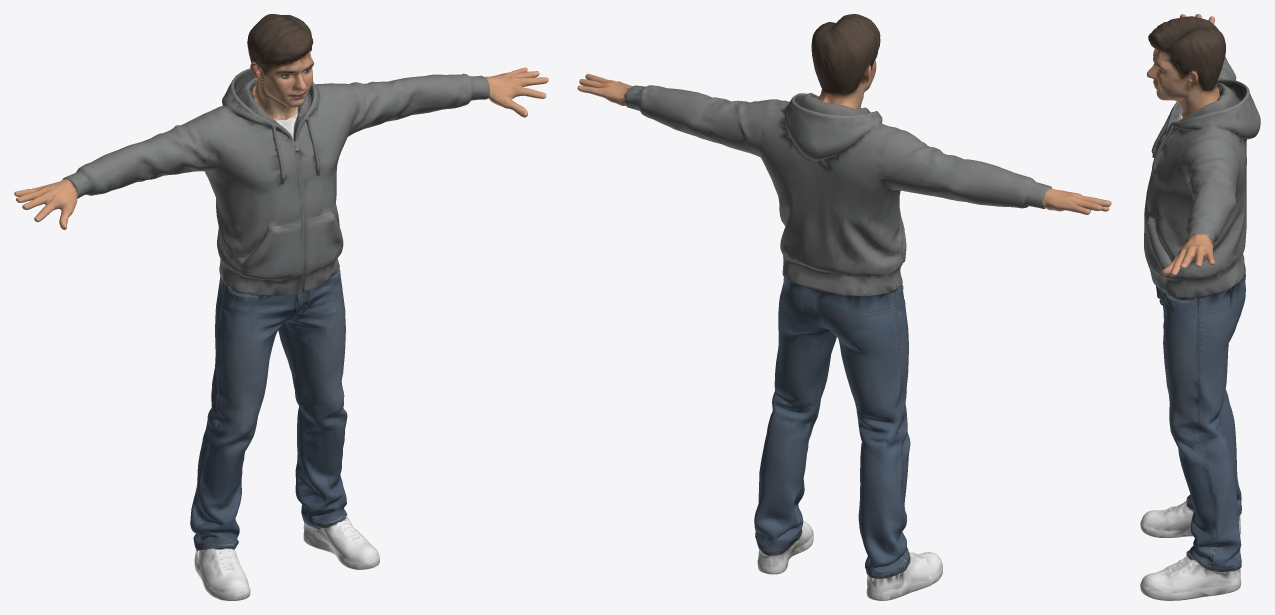
The model's file is walker.glb.
The picture shows the model from 3 angles, left to right: view 1: azimuth 30°, elevation 25°; view 2: azimuth 150°, elevation 25°; view 3: azimuth 270°, elevation 25°; orthographic projection.
Visible parts, largest first — view 1: tripo_node_b3768730-bb55-4d88-9e55-f1567a9023f6; view 2: tripo_node_b3768730-bb55-4d88-9e55-f1567a9023f6; view 3: tripo_node_b3768730-bb55-4d88-9e55-f1567a9023f6.
Part boxes in pixels (x1,y1,x2,y2): tripo_node_b3768730-bb55-4d88-9e55-f1567a9023f6: [14, 14, 548, 600]; tripo_node_b3768730-bb55-4d88-9e55-f1567a9023f6: [577, 14, 1111, 600]; tripo_node_b3768730-bb55-4d88-9e55-f1567a9023f6: [1140, 14, 1260, 600].
Bounding box in the file's own units: 1.77 × 1.78 × 0.3581.
1 material, 1 textured.
